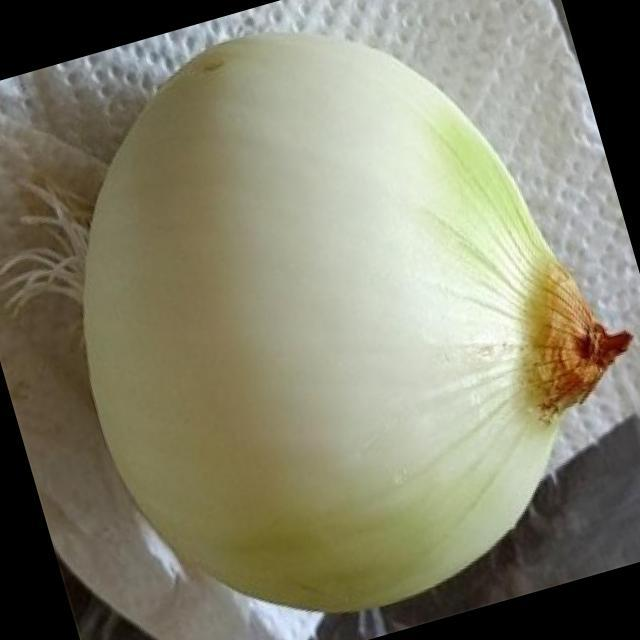Onion: (87, 36, 613, 614)
